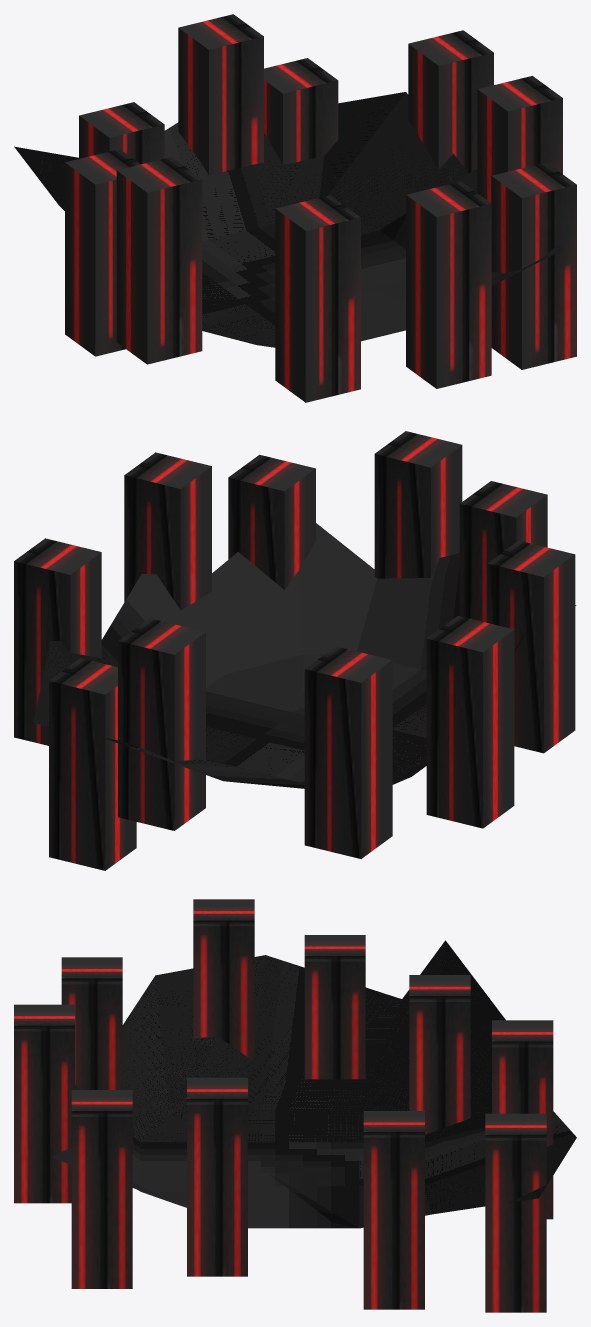
File: menumap.obj
3 views of the same model, one above another, from view 1: azimuth 30°, elevation 25°; view 2: azimuth 150°, elevation 25°; view 3: azimuth 270°, elevation 25° (orthographic). The views are drawn at different scales.
Visible parts, largest first — view 1: Cube, Cube.009, Cube.007, Cube.008, Cube.006, Cube.002, Cube.010, Cube.004, Cube.005, Cube.003, Cube.001; view 2: Cube, Cube.010, Cube.001, Cube.002, Cube.003, Cube.009, Cube.004, Cube.007, Cube.005, Cube.006, Cube.008; view 3: Cube, Cube.004, Cube.006, Cube.003, Cube.005, Cube.007, Cube.001, Cube.009, Cube.010, Cube.008, Cube.002.
Part boxes in pixels (left/top/right/bottom): Cube: left=14, top=92, right=563, bottom=347; Cube.009: left=116, top=157, right=202, bottom=364; Cube.007: left=406, top=181, right=491, bottom=388; Cube.008: left=275, top=195, right=360, bottom=402; Cube.006: left=491, top=162, right=576, bottom=369; Cube.002: left=178, top=14, right=263, bottom=175; Cube.010: left=65, top=149, right=140, bottom=356; Cube.004: left=408, top=30, right=493, bottom=173; Cube.005: left=477, top=76, right=562, bottom=202; Cube.003: left=264, top=58, right=338, bottom=164; Cube.001: left=79, top=102, right=164, bottom=164; Cube: left=33, top=523, right=576, bottom=788; Cube.010: left=426, top=616, right=514, bottom=828; Cube.001: left=304, top=646, right=392, bottom=858; Cube.002: left=118, top=618, right=205, bottom=830; Cube.003: left=49, top=658, right=136, bottom=870; Cube.009: left=487, top=540, right=575, bottom=753; Cube.004: left=14, top=538, right=101, bottom=745; Cube.007: left=374, top=431, right=462, bottom=578; Cube.005: left=124, top=452, right=211, bottom=609; Cube.006: left=228, top=454, right=315, bottom=589; Cube.008: left=459, top=481, right=547, bottom=622; Cube: left=51, top=940, right=576, bottom=1228; Cube.004: left=363, top=1111, right=424, bottom=1309; Cube.006: left=71, top=1090, right=132, bottom=1288; Cube.003: left=485, top=1113, right=546, bottom=1312; Cube.005: left=187, top=1077, right=247, bottom=1276; Cube.007: left=14, top=1004, right=74, bottom=1203; Cube.001: left=409, top=975, right=470, bottom=1134; Cube.009: left=193, top=899, right=254, bottom=1060; Cube.010: left=304, top=935, right=365, bottom=1079; Cube.008: left=61, top=957, right=122, bottom=1089; Cube.002: left=492, top=1020, right=553, bottom=1219.
Bounding box in the file's own units: 179 × 97.01 × 199.
Materials: 2 (2 with a texture image).
